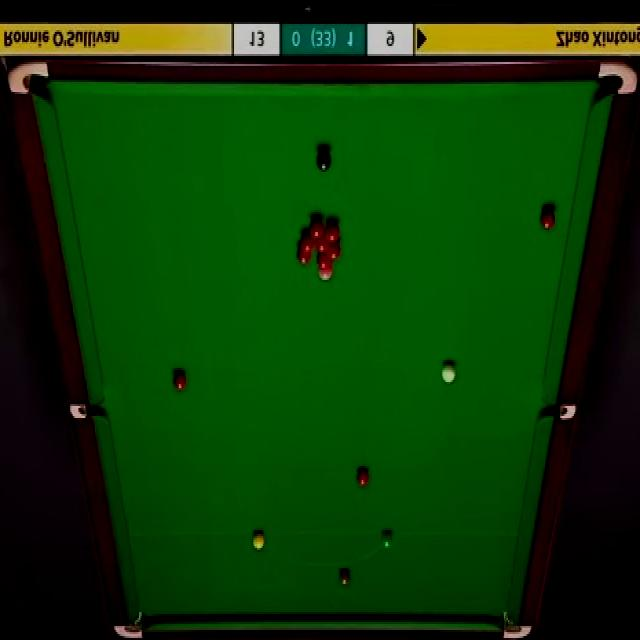black-ball: (315, 146, 331, 174)
brown-ball: (338, 568, 352, 588)
green-ball: (379, 528, 395, 549)
pink-ball: (317, 270, 333, 282)
red-ball: (540, 205, 556, 231), (325, 218, 340, 242), (310, 217, 324, 239), (172, 368, 186, 390), (296, 245, 311, 265), (327, 239, 339, 261), (356, 468, 369, 488), (314, 237, 329, 254), (317, 253, 332, 270), (301, 233, 314, 251), (251, 122, 252, 122)
white-ball: (440, 361, 458, 386)
yellow-ball: (252, 530, 265, 550)
